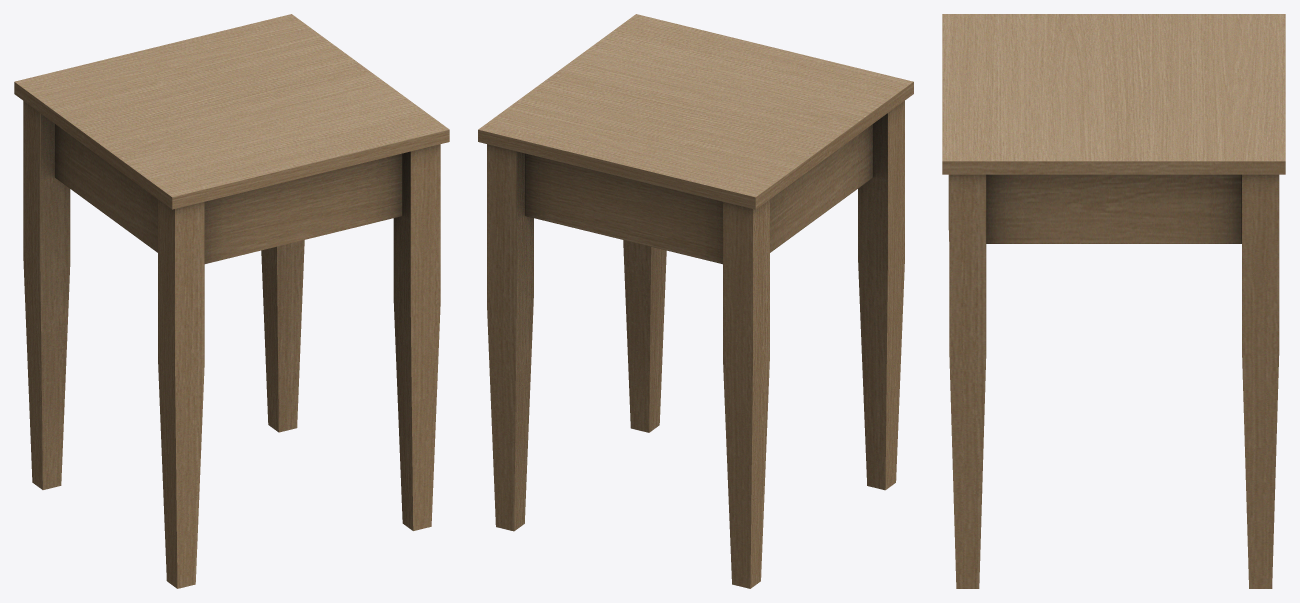
The model's file is Sun_0057_End_table.fbx.
The picture shows the model from 3 angles, left to right: view 1: azimuth 30°, elevation 25°; view 2: azimuth 150°, elevation 25°; view 3: azimuth 270°, elevation 25°; orthographic projection. The views are drawn at different scales.
Visible parts, largest first — view 1: Sun_0057_End_table; view 2: Sun_0057_End_table; view 3: Sun_0057_End_table.
Boxes of the visible parts, x1,y1,x2,y2 form: Sun_0057_End_table: (14, 14, 449, 588); Sun_0057_End_table: (478, 14, 913, 588); Sun_0057_End_table: (942, 14, 1285, 588).
Bounding box in the file's own units: 53.85 × 73.97 × 53.09.
